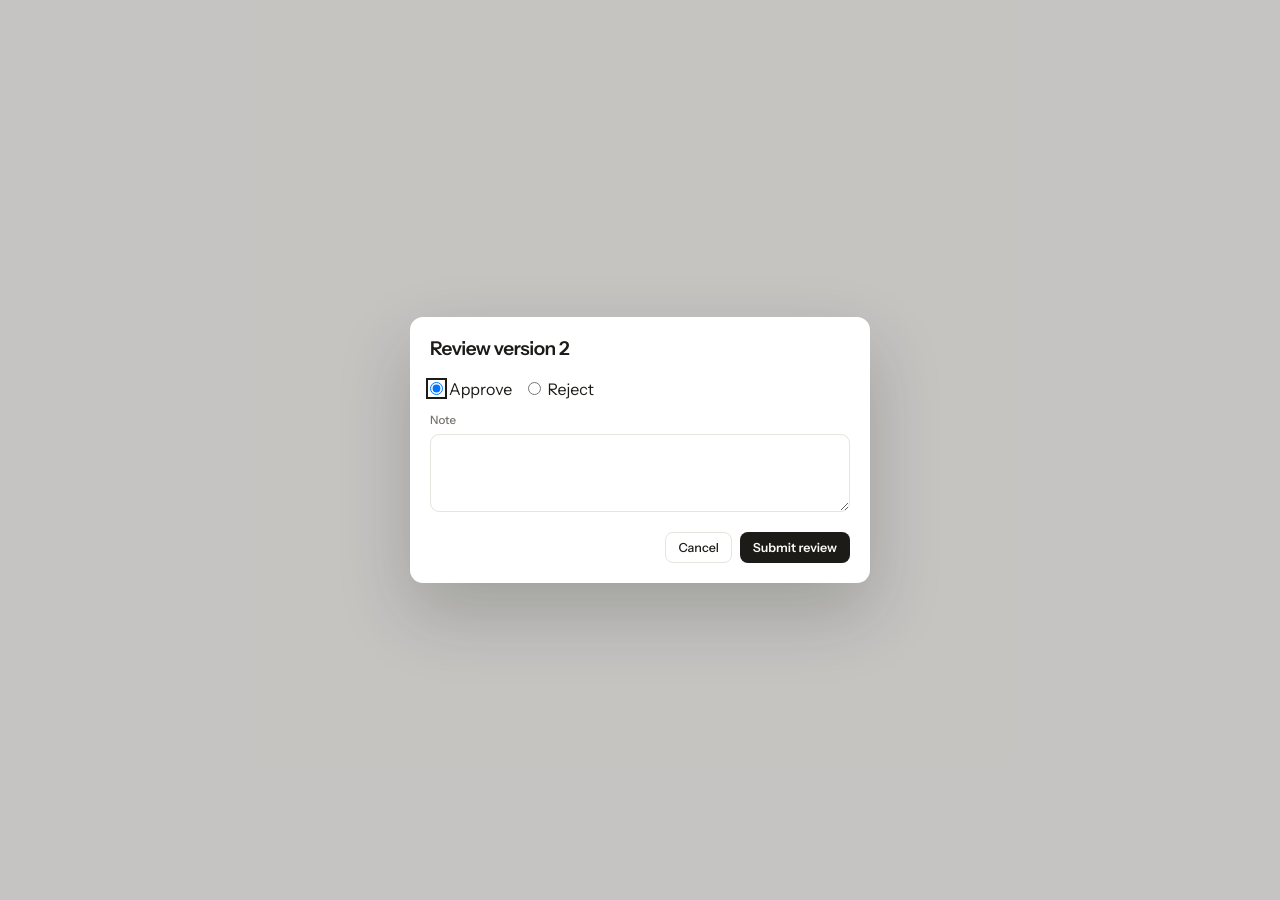
Test case: ReviewDialog › disables submit when rejecting with an empty note
What coordinates should you click on to do the following:
click the radio button labelled "Reject"
I would click on:
 (535, 388)
Its box is [528, 382, 541, 395].
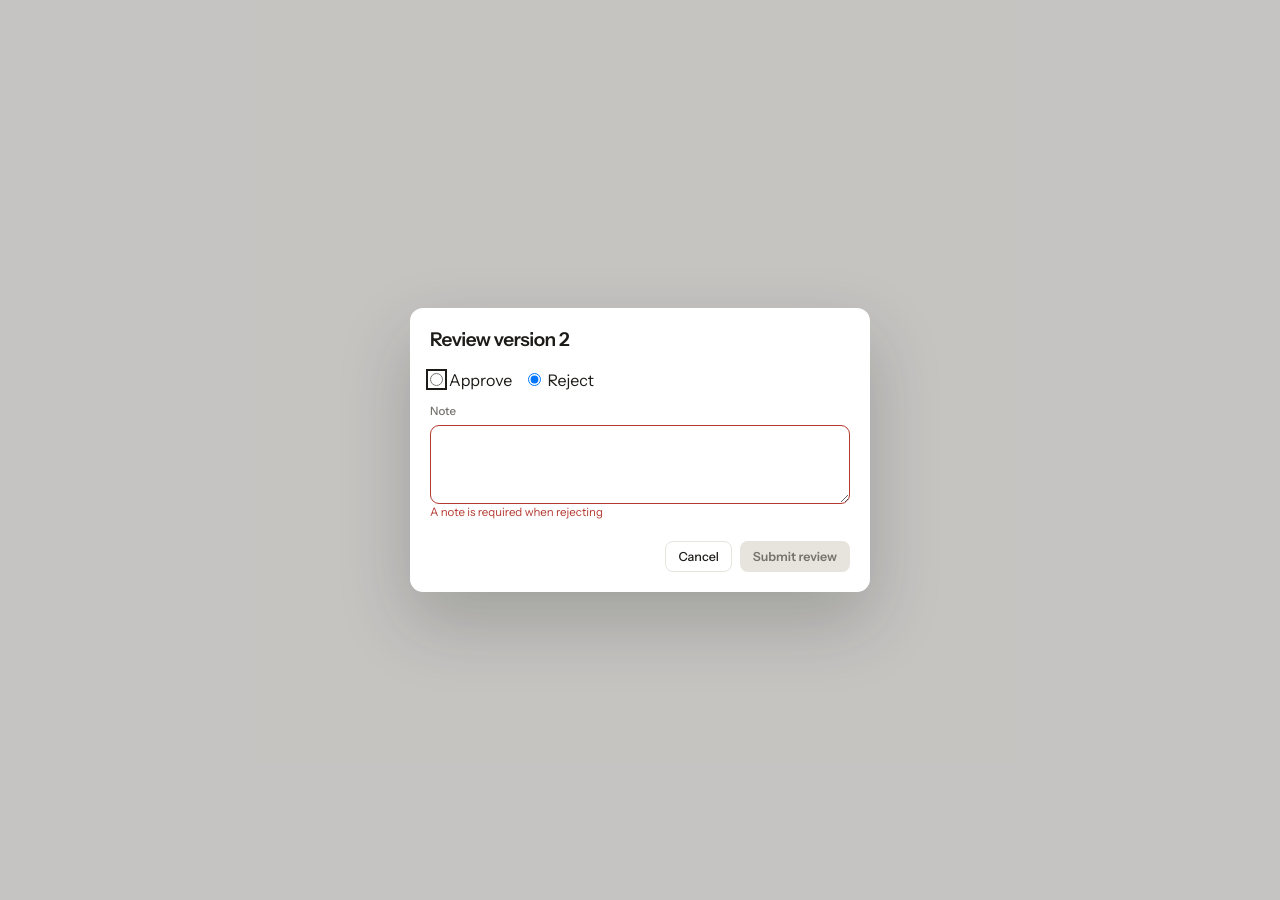
expect the button "Submit review" is disabled: met, box [740, 541, 850, 572]
